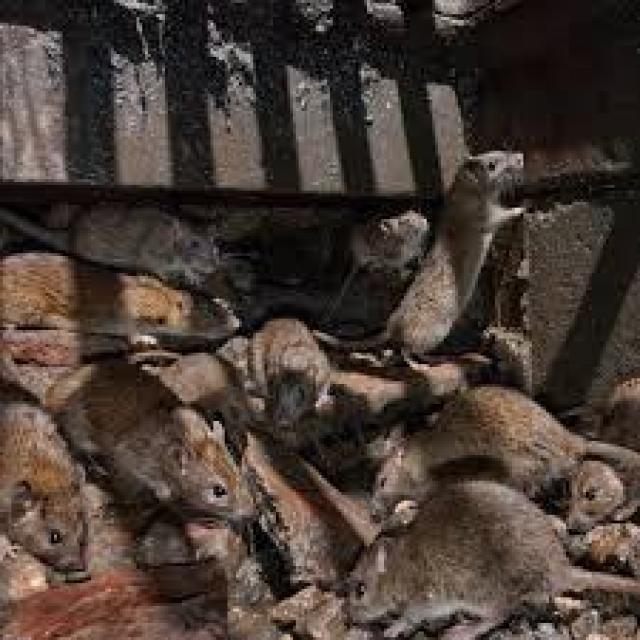Rat: (361, 96, 513, 156)
